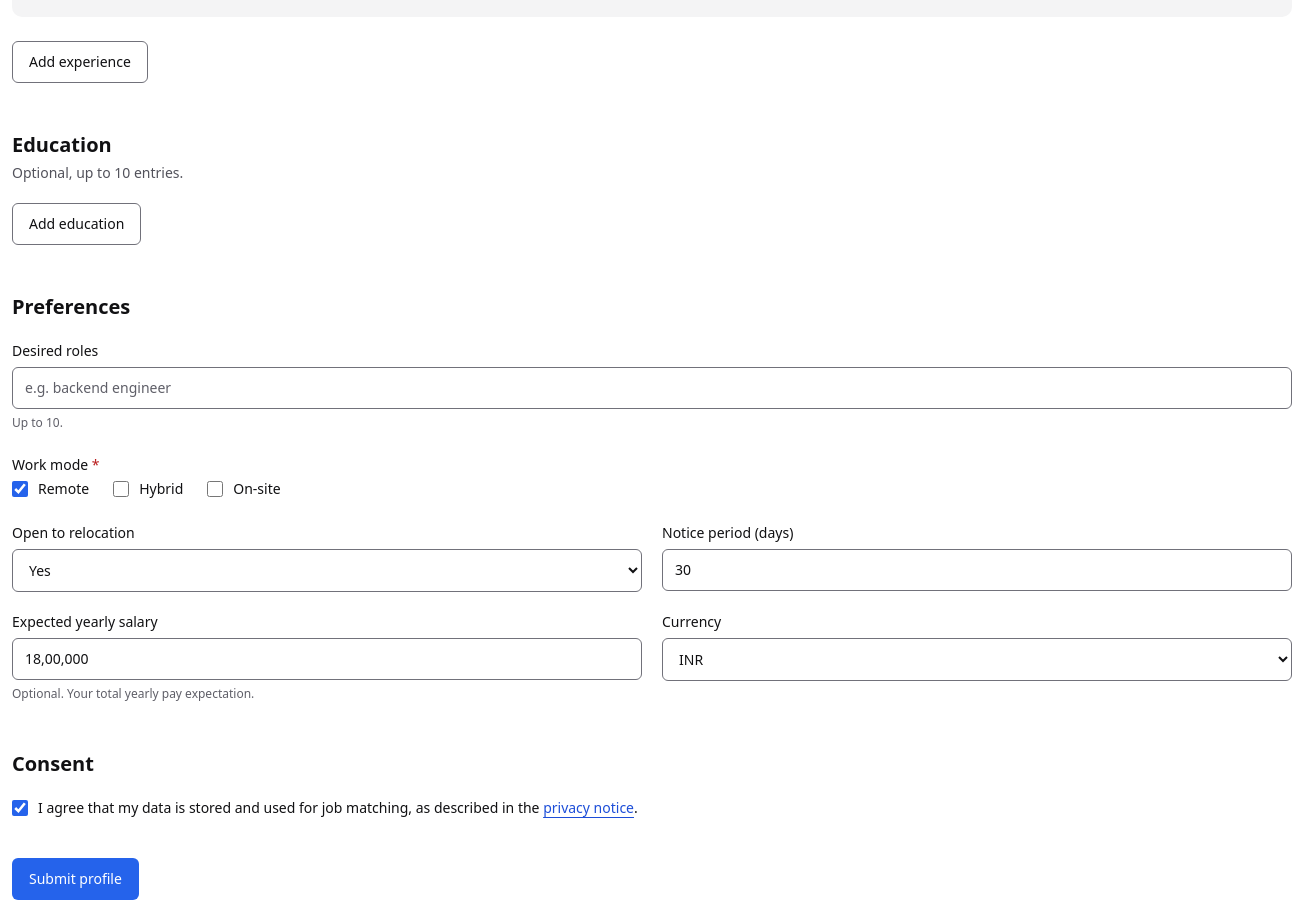
CandidateForm › shows a friendly message when rate limited
(page scrolled)
Click the button "Submit profile": (75, 878) [12,858,139,899]
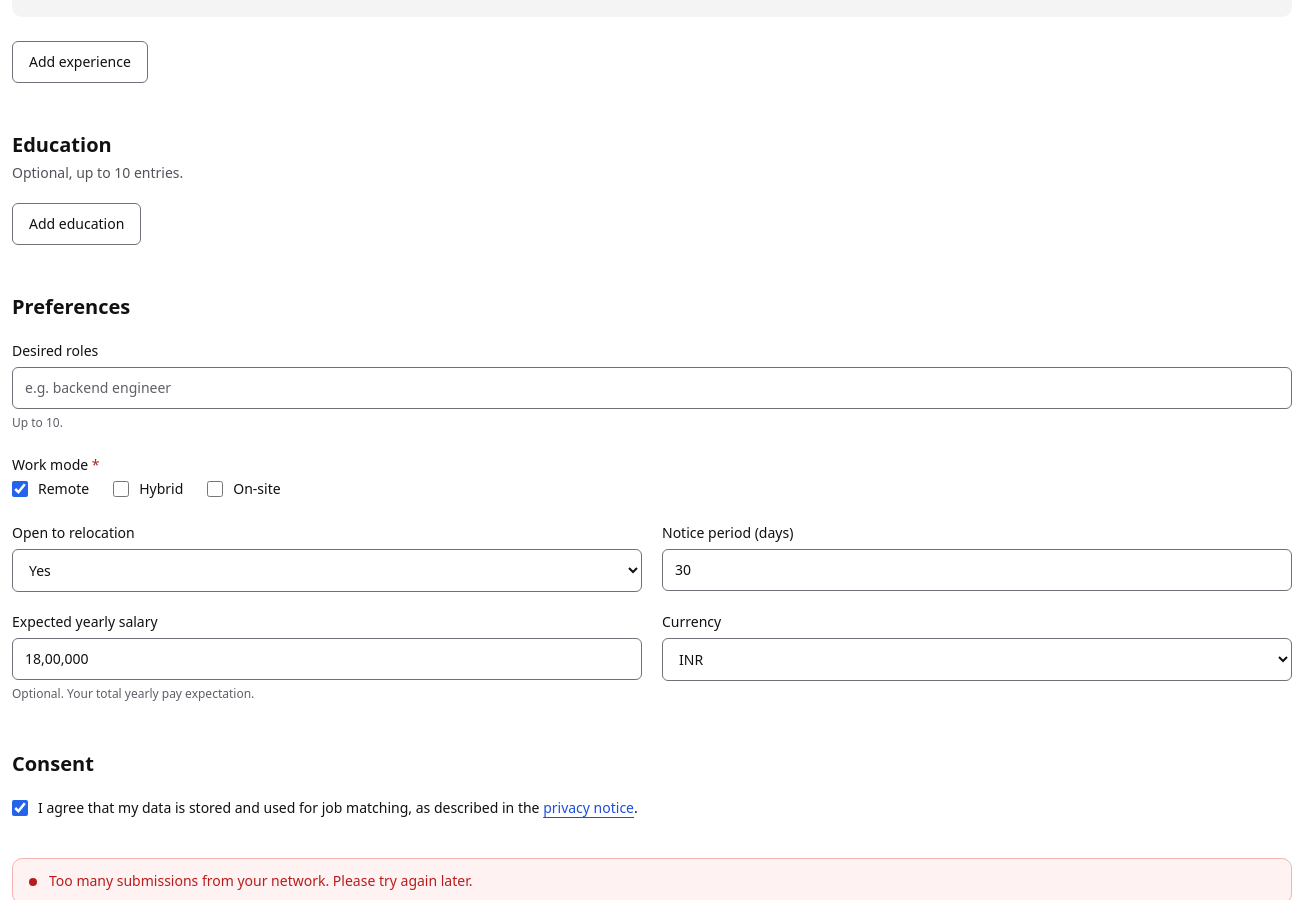
Check: the text "Too many submissions" is shown, box [49,870,472,890]
